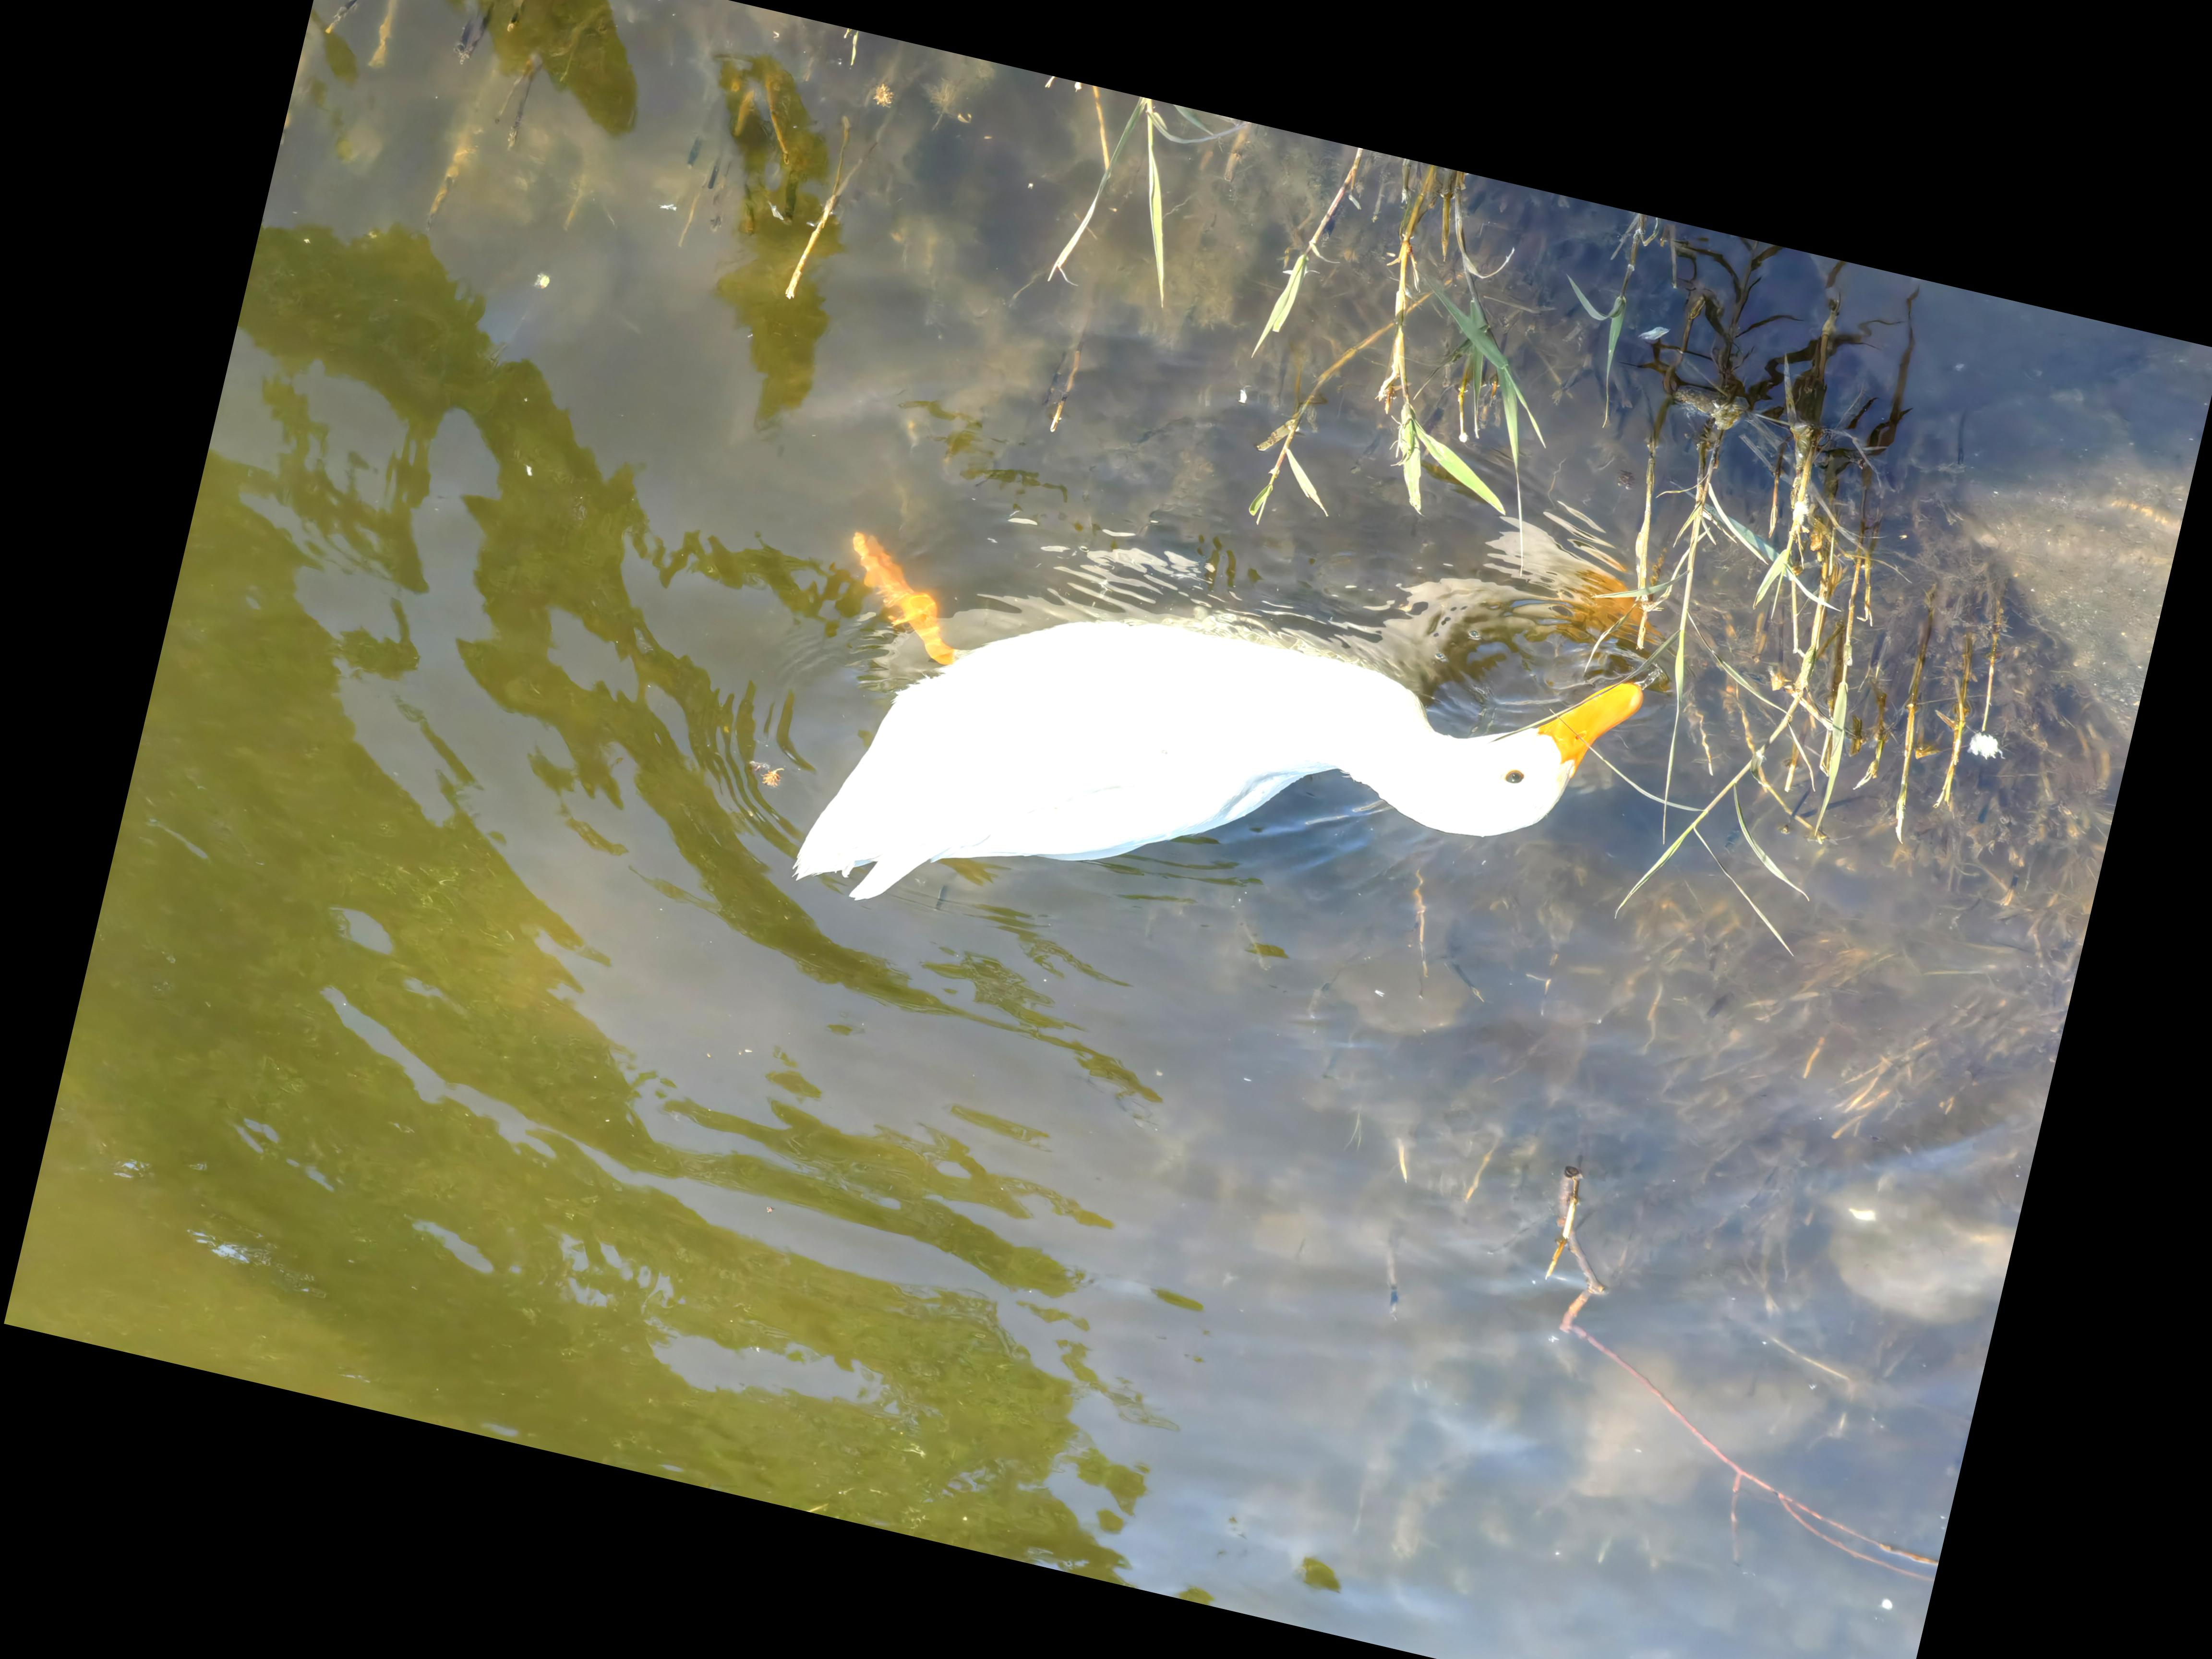duck: (718, 423, 1714, 1087)
